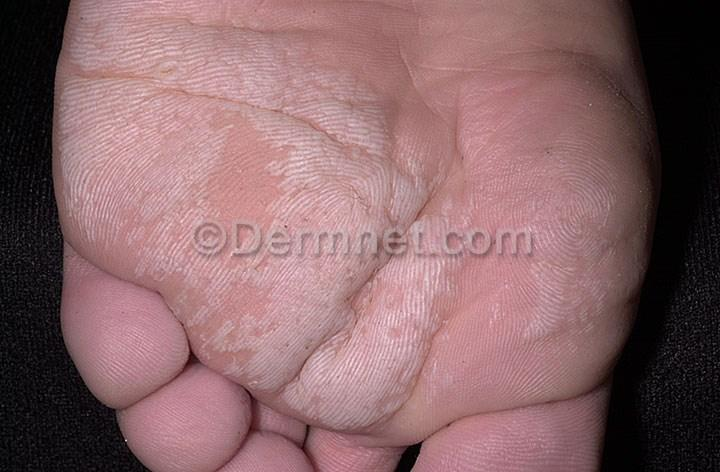Eczema: (212, 191, 438, 381), (476, 116, 639, 326), (226, 18, 416, 191), (49, 0, 234, 164), (71, 162, 216, 300)
